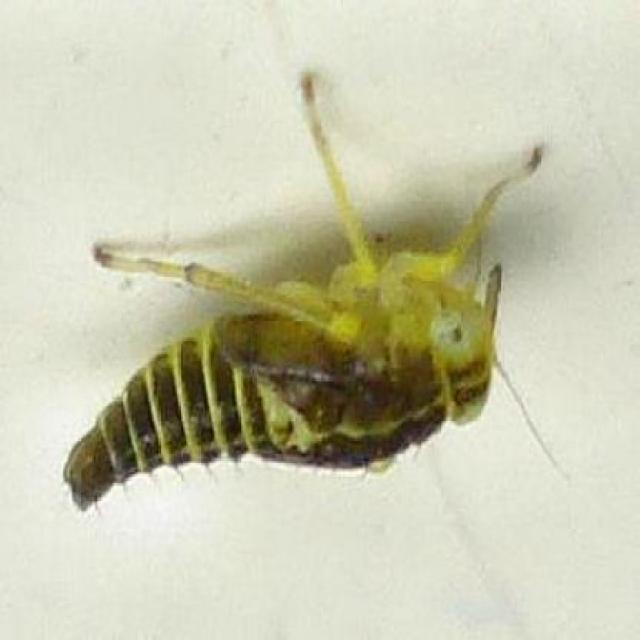green-leafhopper: (69, 186, 497, 523)
